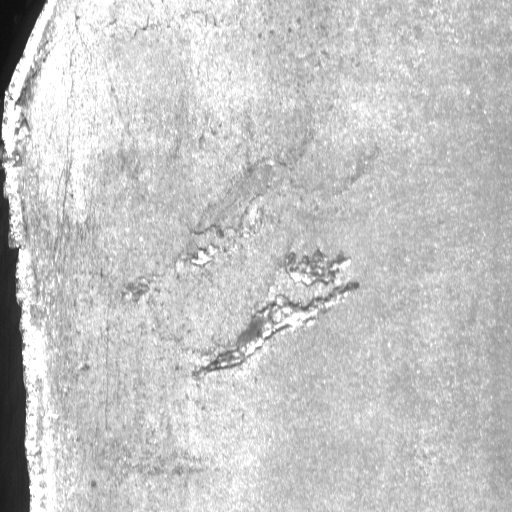qiaopi: (189, 246, 360, 381)
